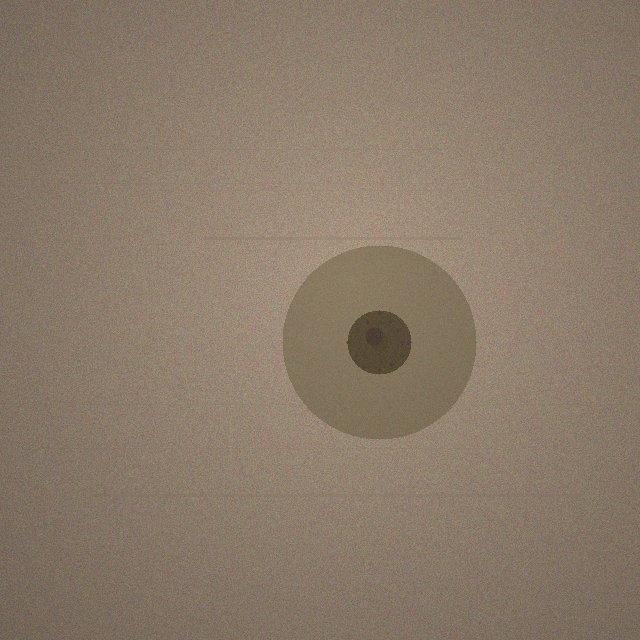cold_weld: (282, 245, 476, 439)
